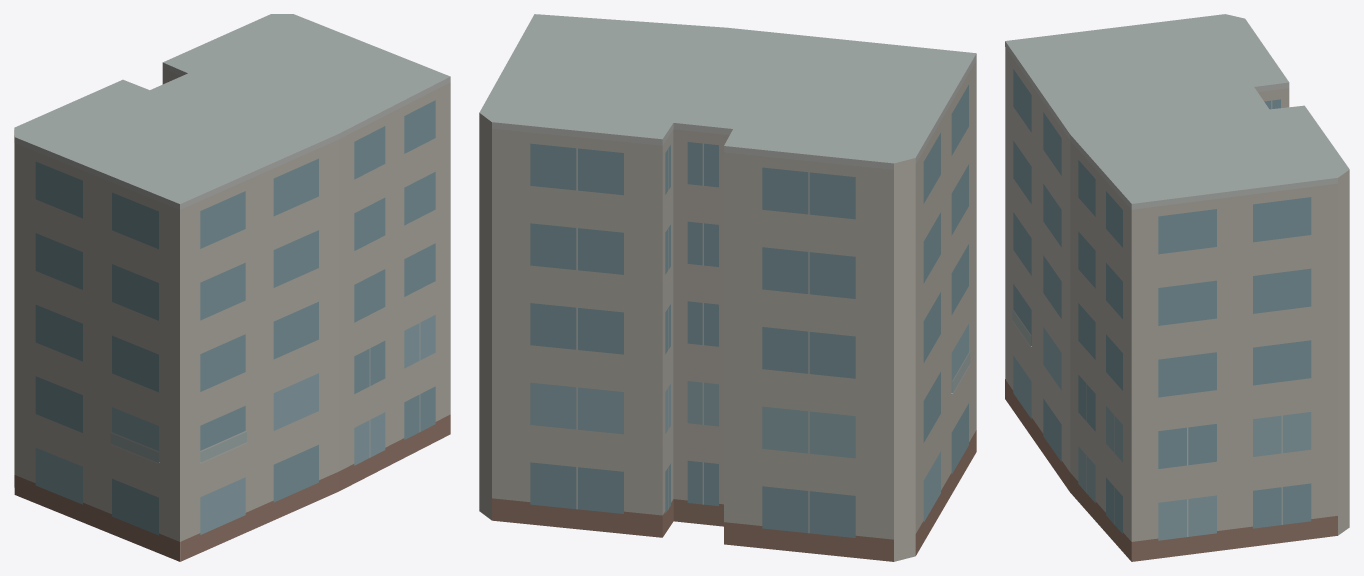
Rendered from survey-upis-32622185.glb.
3 views of the same model, side by side, from view 1: azimuth 30°, elevation 25°; view 2: azimuth 150°, elevation 25°; view 3: azimuth 270°, elevation 25° (orthographic). The views are drawn at different scales.
Visible parts, largest first — view 1: survey-upis-32622185.tmp; view 2: survey-upis-32622185.tmp; view 3: survey-upis-32622185.tmp.
Boxes of the visible parts, bbox=[...] form: survey-upis-32622185.tmp: bbox=[14, 14, 450, 561]; survey-upis-32622185.tmp: bbox=[479, 14, 976, 561]; survey-upis-32622185.tmp: bbox=[1005, 14, 1349, 561].
Size of the model in its own units: 17.36 by 15.25 by 13.32.
